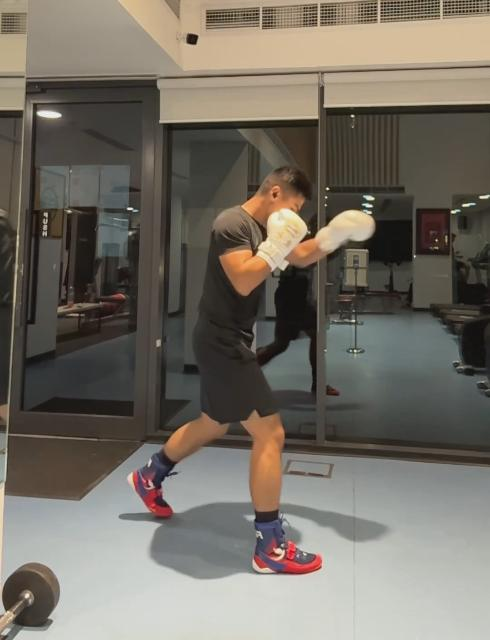punch: (124, 162, 376, 576)
